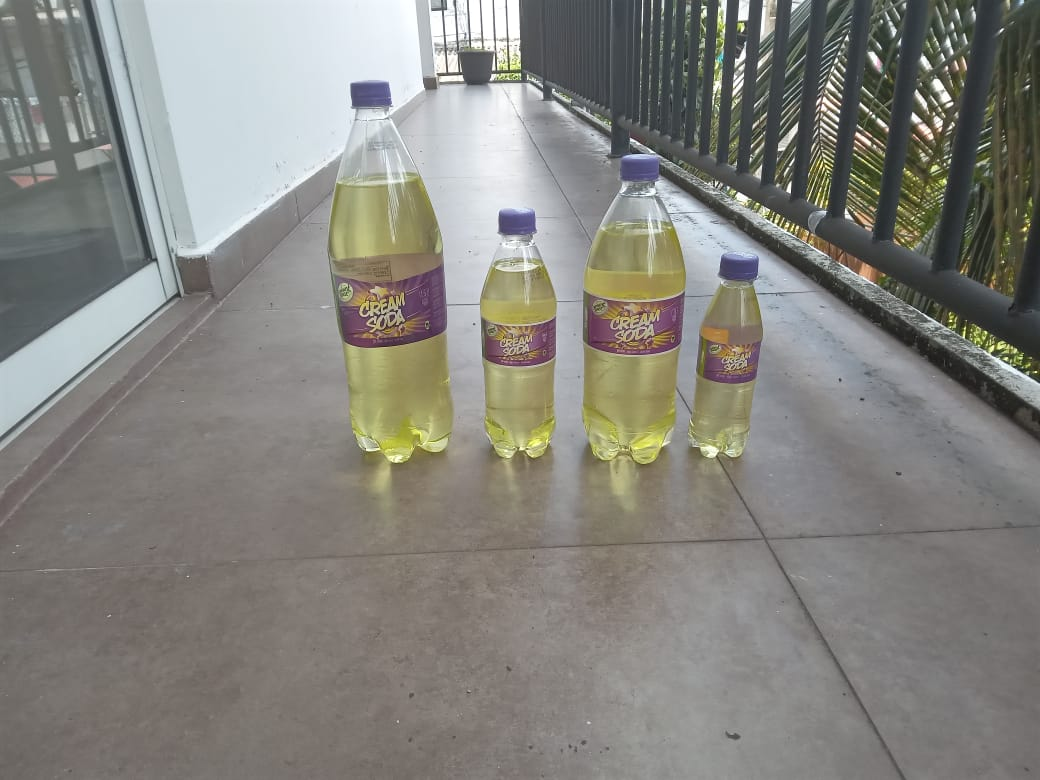L: (326, 82, 456, 465)
M: (579, 153, 684, 467), (477, 208, 563, 459)
Xs: (689, 256, 762, 458)
